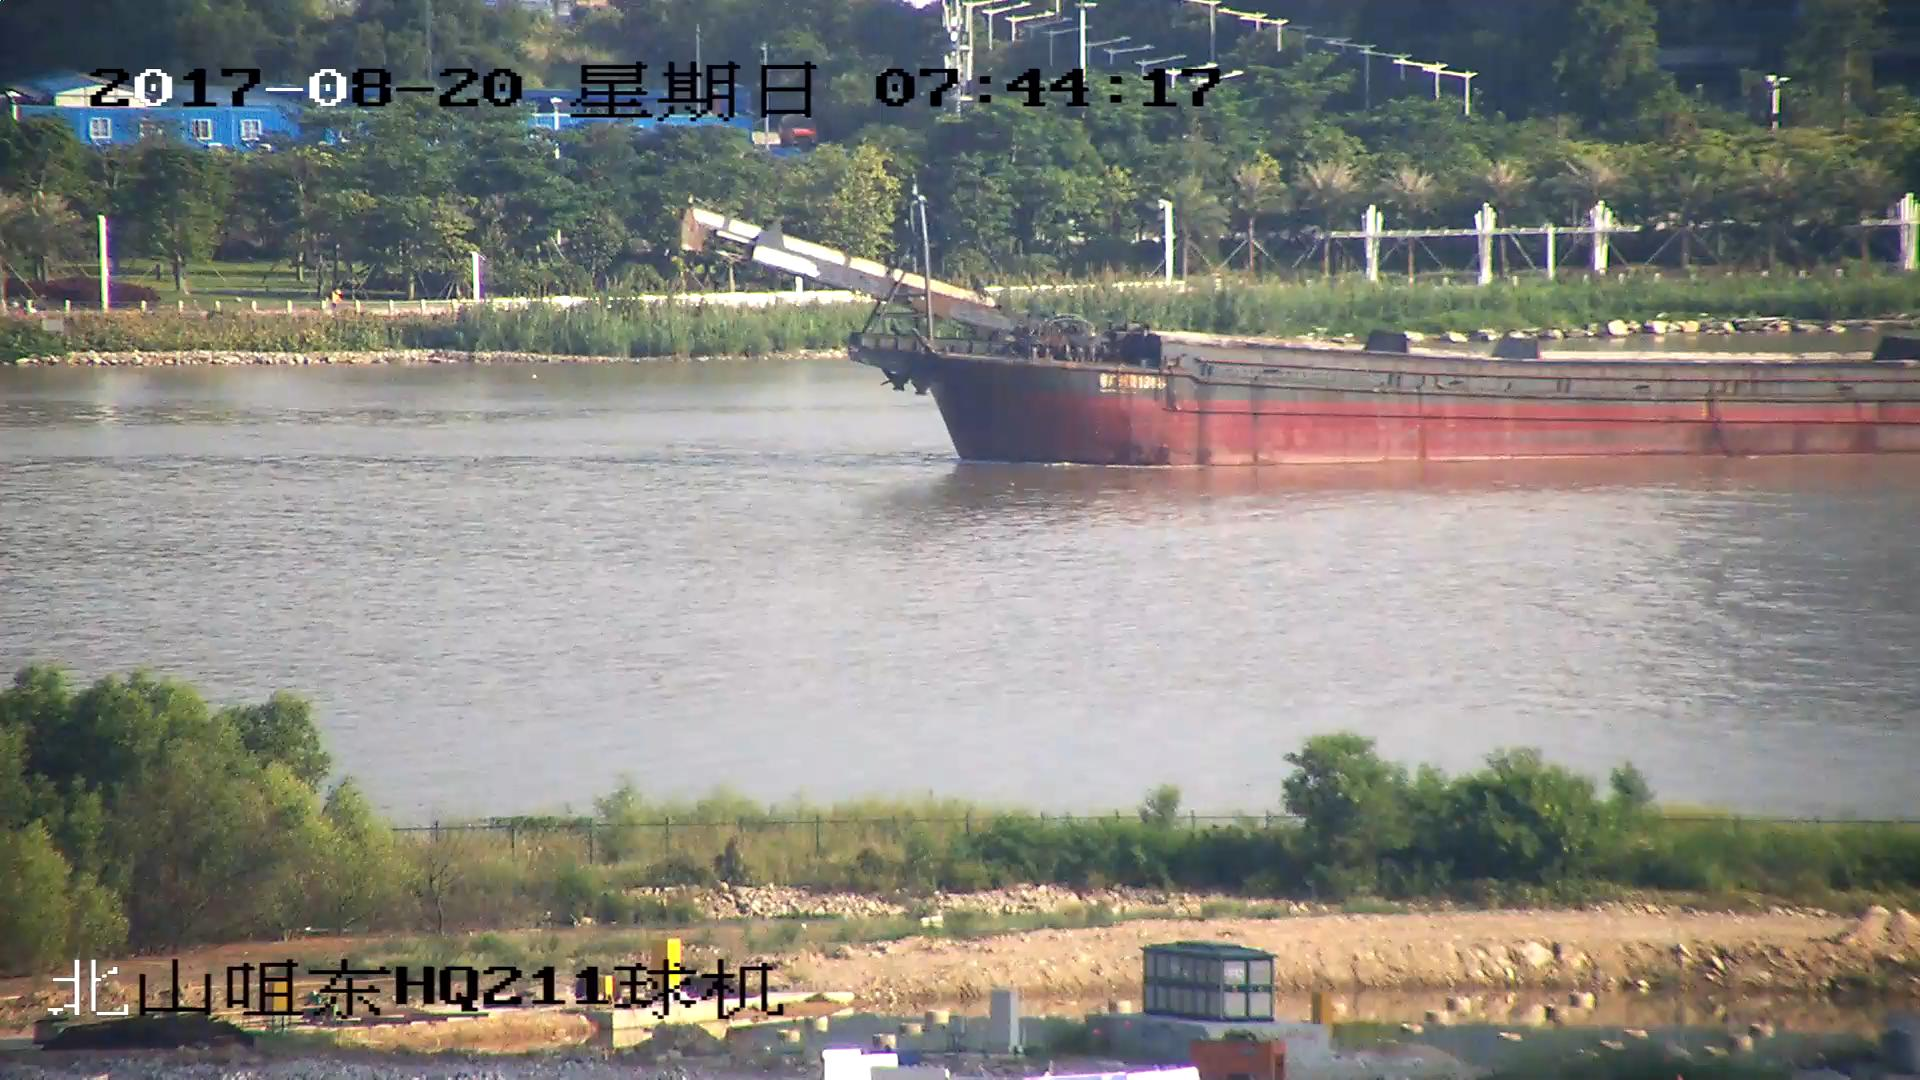bulk cargo carrier: (692, 193, 1920, 466)
